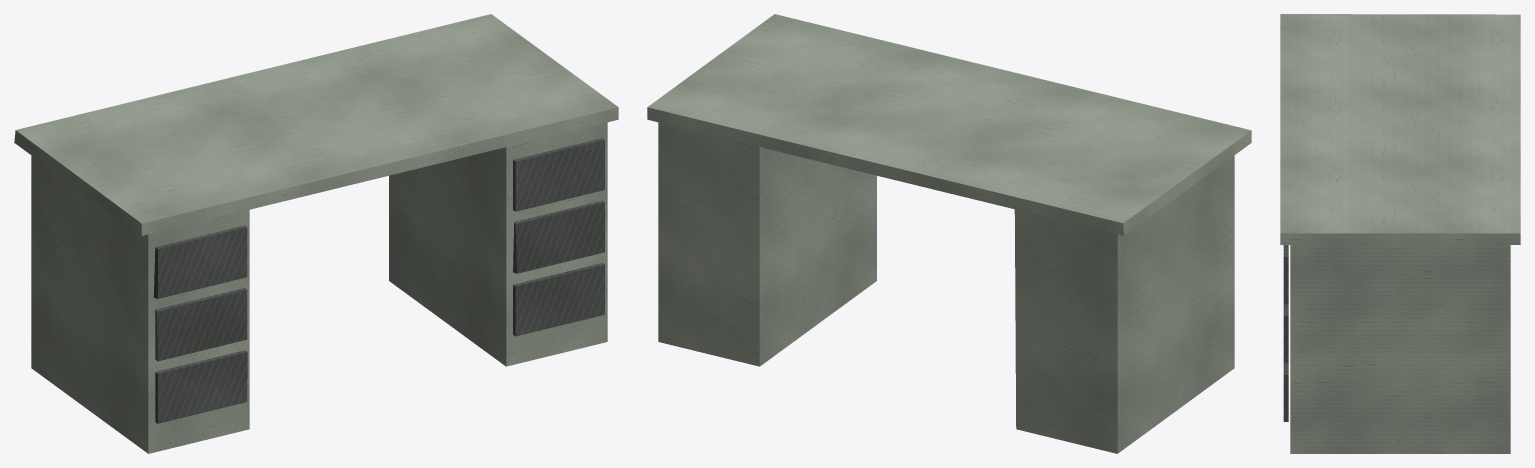
File: desk_v1.glb
The picture shows the model from 3 angles, left to right: view 1: azimuth 30°, elevation 25°; view 2: azimuth 150°, elevation 25°; view 3: azimuth 270°, elevation 25°; orthographic projection. The views are drawn at different scales.
Visible parts, largest first — view 1: Variant_desk_1; view 2: Variant_desk_1; view 3: Variant_desk_1.
Part boxes in pixels (x1,y1,x2,y2): Variant_desk_1: (14, 14, 618, 453); Variant_desk_1: (647, 14, 1251, 453); Variant_desk_1: (1280, 14, 1520, 453).
Bounding box in the file's own units: 1.6 × 0.76 × 0.74.
Materials: 2 (2 with a texture image).
